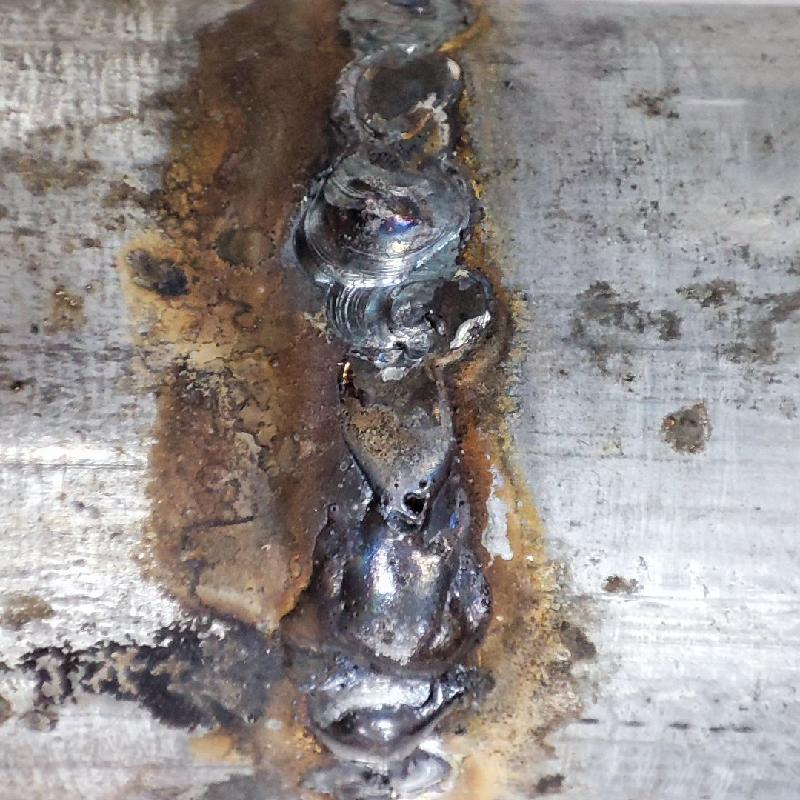Not_fully_soldered: (321, 288, 472, 532)
Surface_pores: (382, 472, 449, 529)
Weld: (281, 530, 488, 768)
wrong_size: (300, 5, 489, 285)
